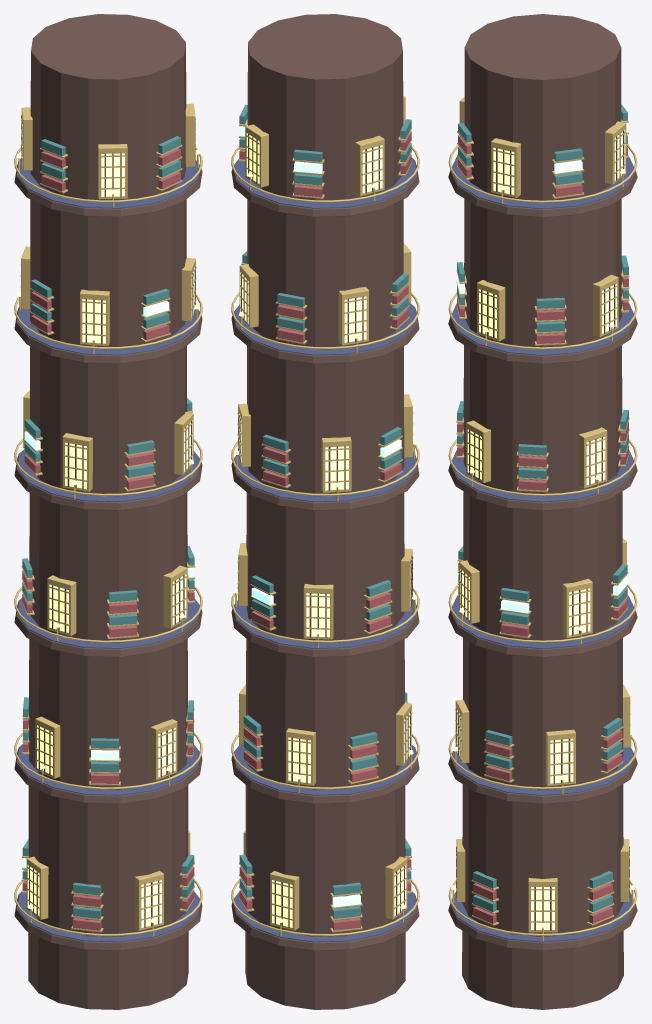
Rendered from w5_library_core.glb.
The picture shows the model from 3 angles, left to right: view 1: azimuth 30°, elevation 25°; view 2: azimuth 150°, elevation 25°; view 3: azimuth 270°, elevation 25°; orthographic projection.
Visible parts, largest first — view 1: ArchiveShaft, BalconyRail_0, BalconyCarpet_0, LampShade_0_0, Books_0_1_1, Books_0_1_0, Books_0_3_2; view 2: ArchiveShaft, BalconyRail_0, BalconyCarpet_0, LampShade_0_0, Books_0_1_1, Books_0_1_0, Books_0_3_2; view 3: ArchiveShaft, BalconyRail_0, BalconyCarpet_0, LampShade_0_0, Books_0_1_1, Books_0_1_0, Books_0_3_2.
Part boxes in pixels (x1,y1,x2,y2): ArchiveShaft: [14, 14, 202, 1009]; BalconyRail_0: [14, 103, 202, 936]; BalconyCarpet_0: [17, 158, 199, 942]; LampShade_0_0: [16, 121, 200, 927]; Books_0_1_1: [22, 136, 194, 918]; Books_0_1_0: [22, 148, 194, 930]; Books_0_3_2: [22, 300, 194, 867]; ArchiveShaft: [231, 14, 419, 1009]; BalconyRail_0: [231, 95, 419, 936]; BalconyCarpet_0: [234, 158, 416, 942]; LampShade_0_0: [233, 133, 417, 927]; Books_0_1_1: [239, 104, 411, 918]; Books_0_1_0: [239, 131, 411, 930]; Books_0_3_2: [239, 124, 401, 907]; ArchiveShaft: [448, 14, 637, 1009]; BalconyRail_0: [448, 97, 637, 941]; BalconyCarpet_0: [452, 156, 633, 942]; LampShade_0_0: [450, 130, 635, 929]; Books_0_1_1: [457, 104, 628, 911]; Books_0_1_0: [457, 135, 628, 923]; Books_0_3_2: [457, 122, 627, 613].
Bounding box in the file's own units: 35.14 × 190 × 35.14.
